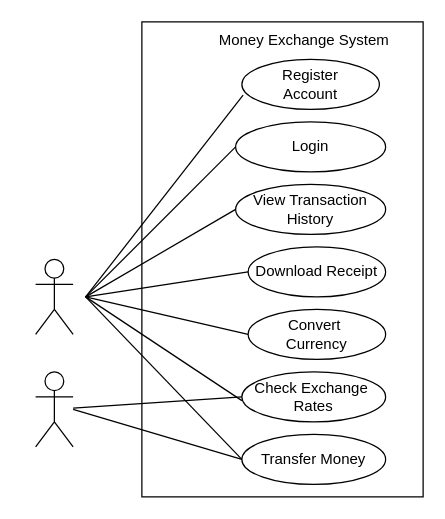
Image size: 445x519. Some labels were removed from this diagram. The centre of each missing label's shape, as x and y in pixels:
"Customer" belongs at (53,296).
"Exchange System" belongs at (53,409).
